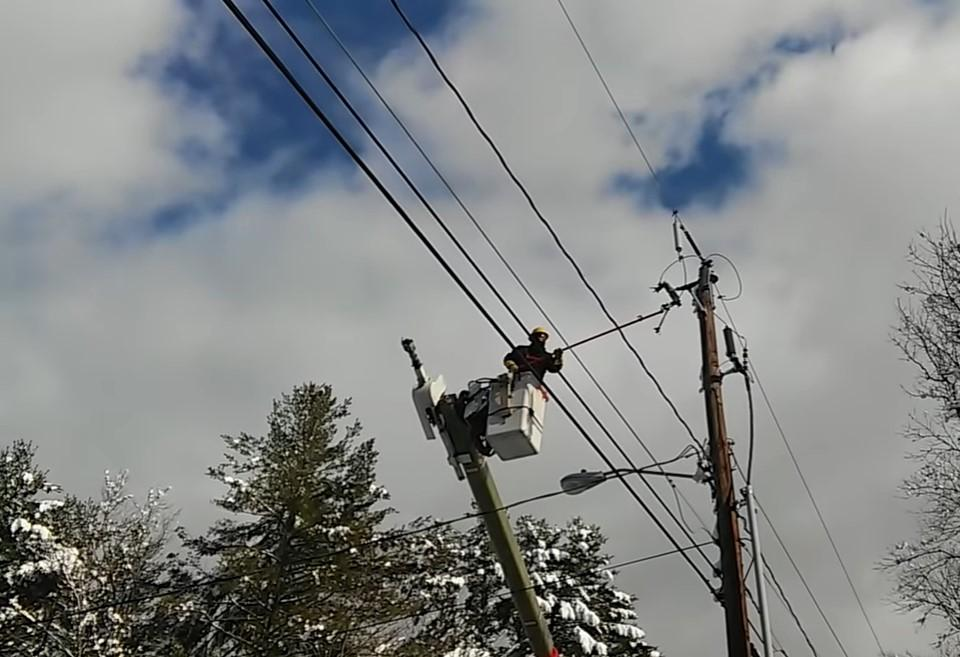Vara_Manobra: (554, 304, 662, 356)
